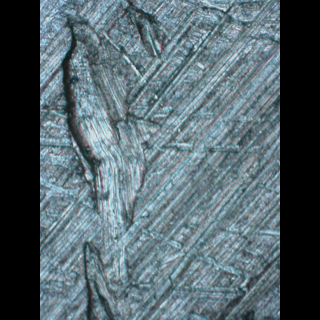d: (56, 1, 179, 319)
